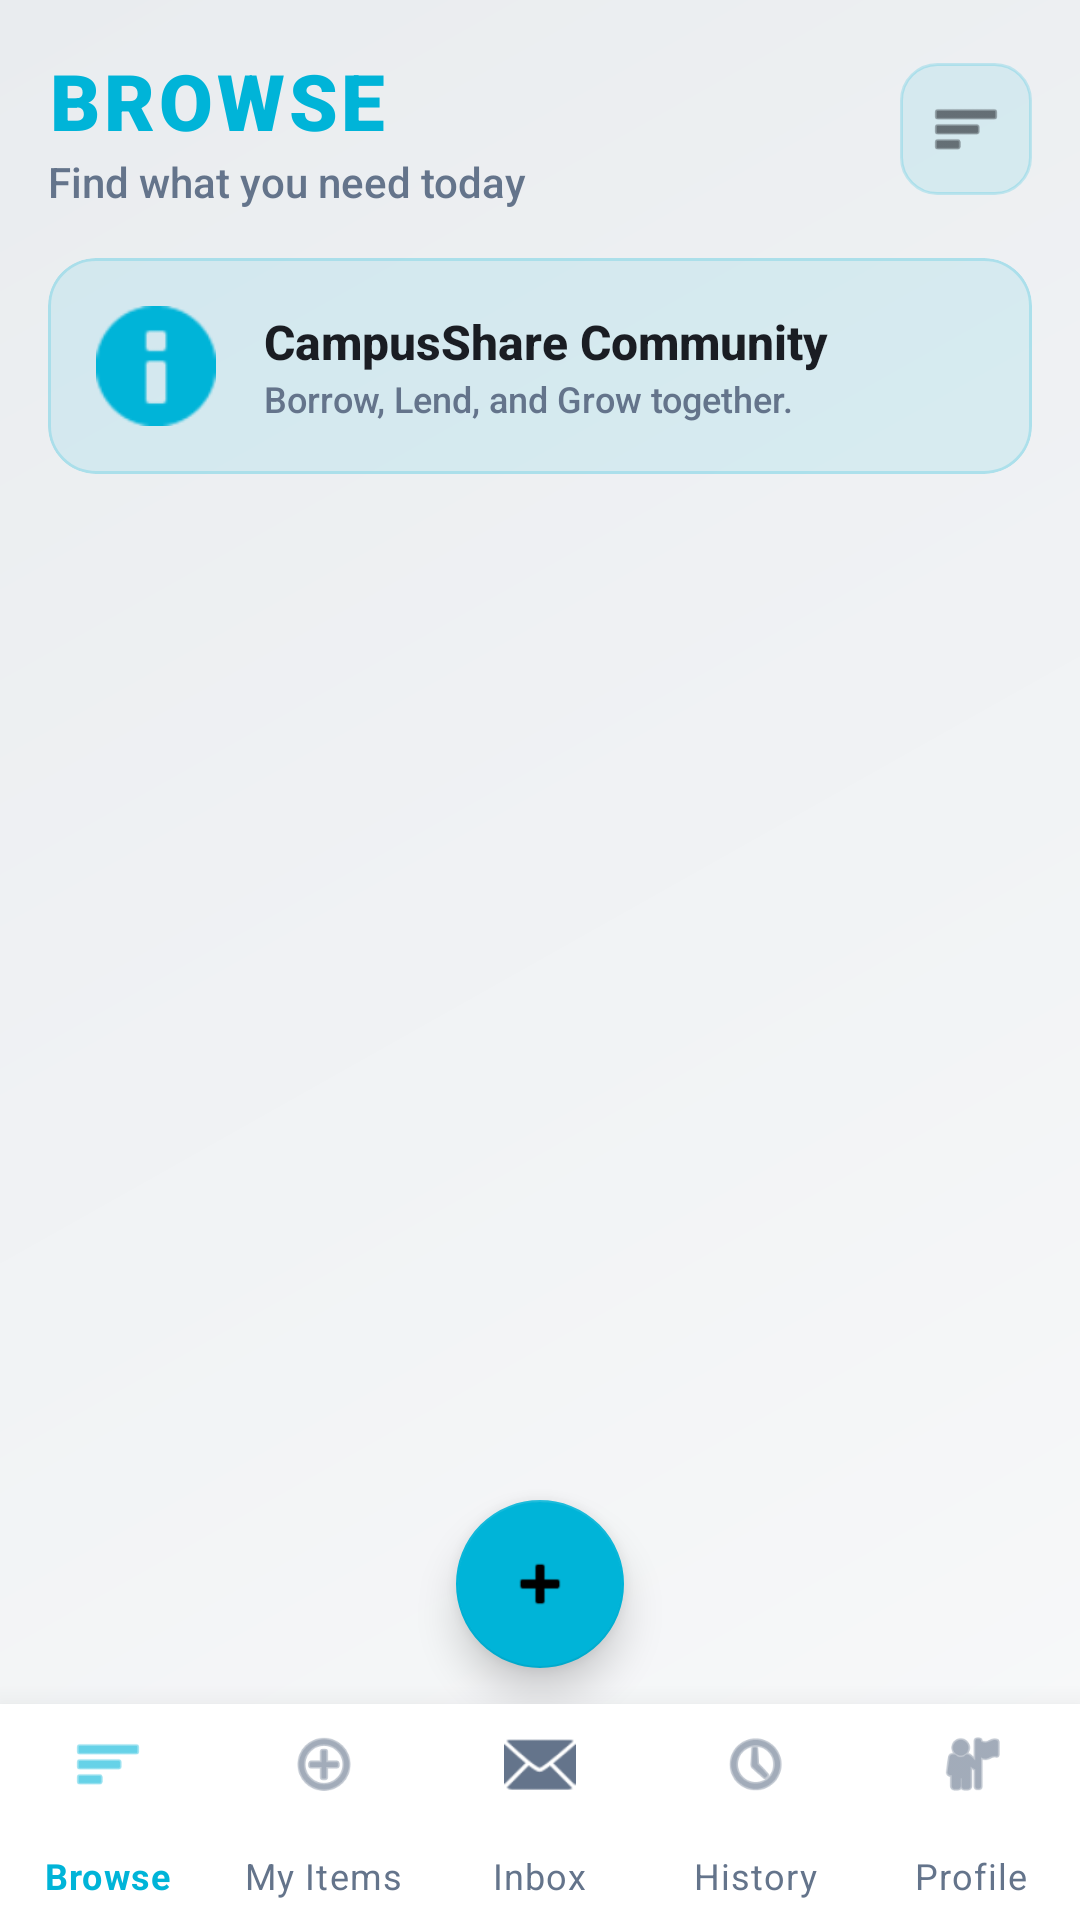

Icon click points for this 1080px x 1920px phone screenshot, format point (x, y):
add: point (540, 1584)
info: point (156, 366)
sort by size: point (966, 129)
